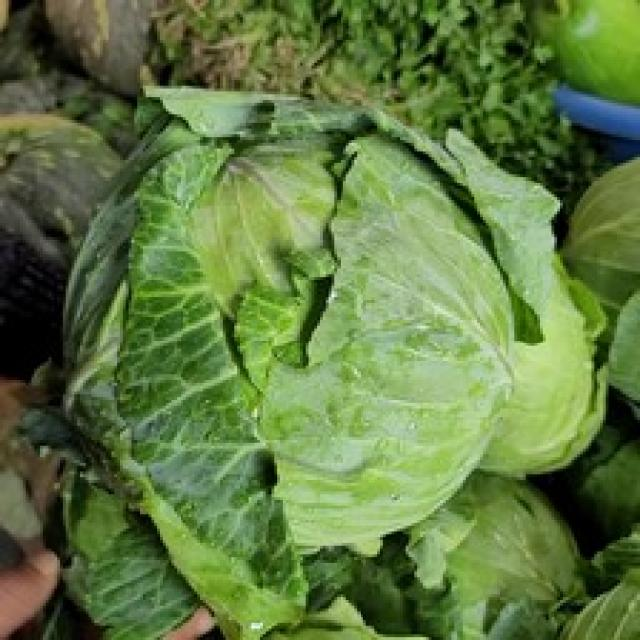Cabbage: (17, 80, 637, 637)
